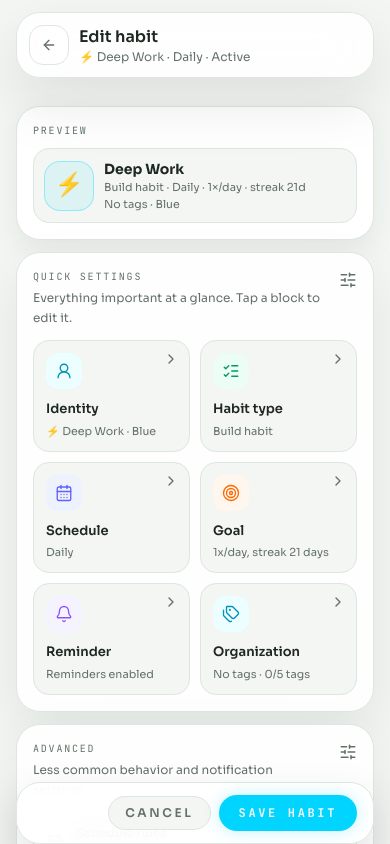
Test: HabitForm › keeps invalid-name feedback on the identity panel and refocuses the name field
Click the button with aria-label "Edit Identity": (112, 396) [33, 340, 190, 452]
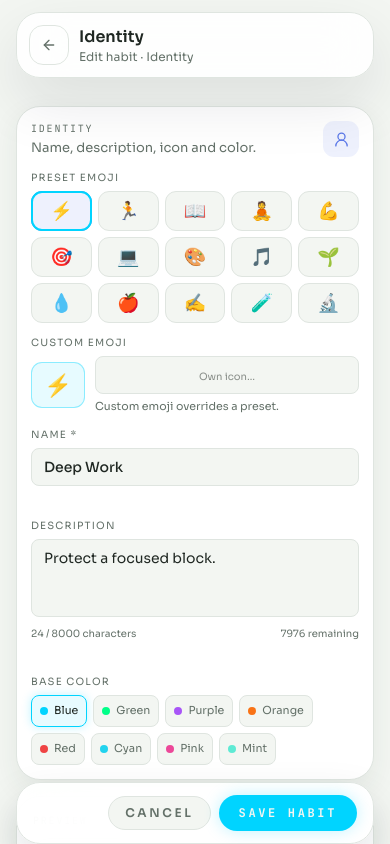
Clear the field labelled "Name *": (195, 466) [31, 448, 359, 486]
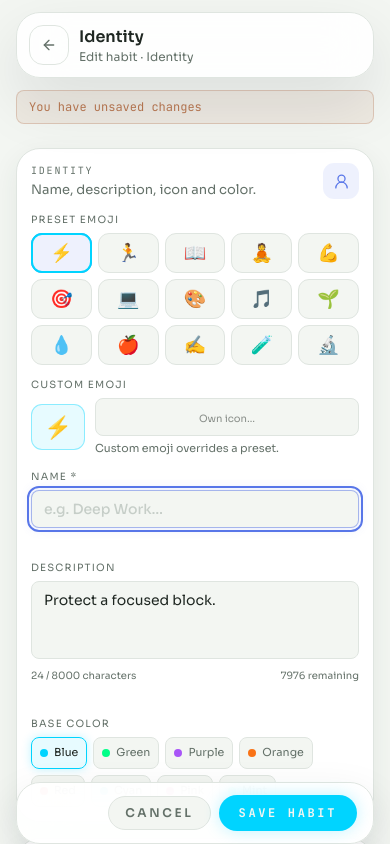
Click the button "Save habit": (288, 813) [219, 795, 357, 831]
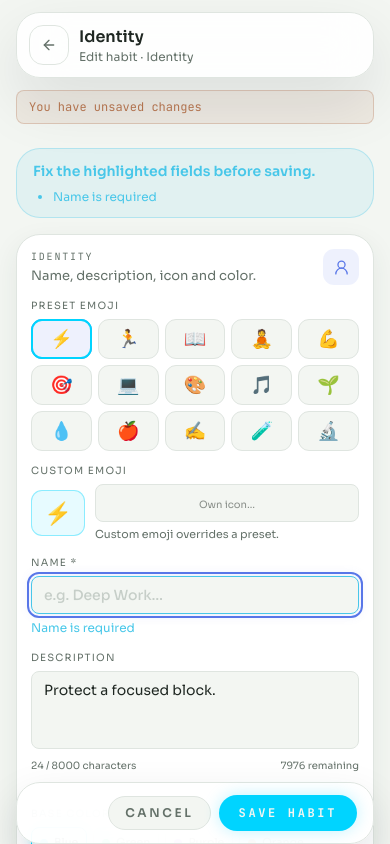
Check: the list item "Name is required" is shown, box [53, 189, 157, 204]
